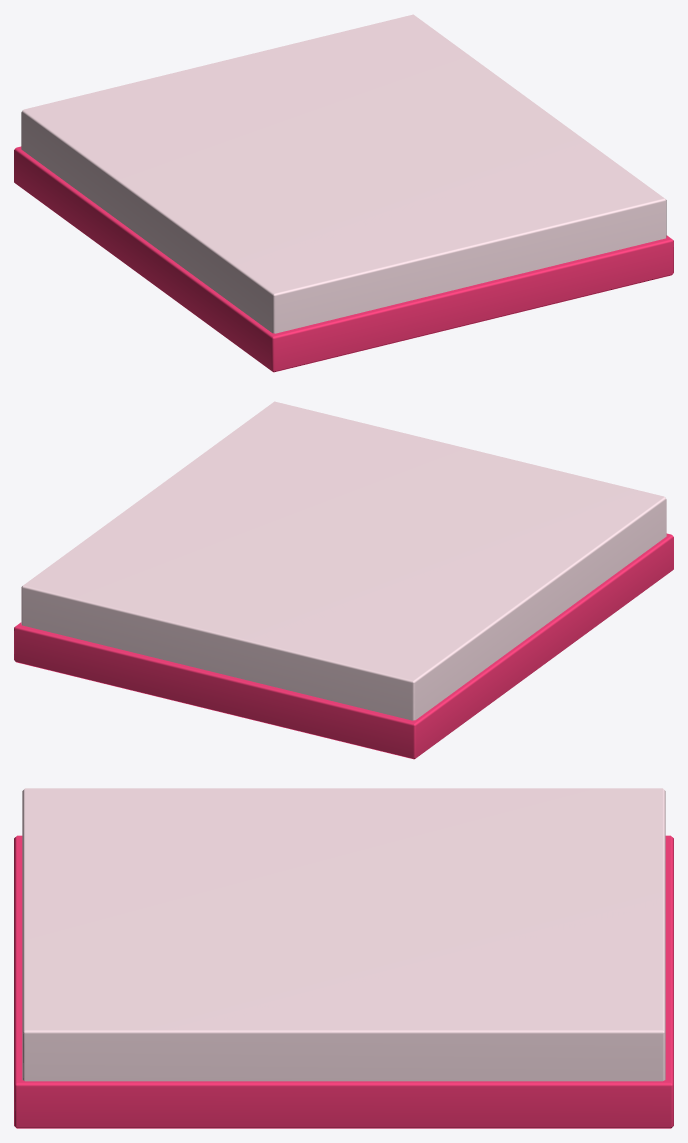
File: Store_8_Base_1.glb
3 views of the same model, one above another, from view 1: azimuth 30°, elevation 25°; view 2: azimuth 150°, elevation 25°; view 3: azimuth 270°, elevation 25° (orthographic). The views are drawn at different scales.
Visible parts, largest first — view 1: Store_8_Base_1; view 2: Store_8_Base_1; view 3: Store_8_Base_1.
Boxes of the visible parts, x1,y1,x2,y2 form: Store_8_Base_1: [14, 14, 673, 372]; Store_8_Base_1: [14, 401, 673, 759]; Store_8_Base_1: [14, 788, 673, 1128].
Bounding box in the file's own units: 9 × 1.62 × 10.06.
1 material, 1 textured.
